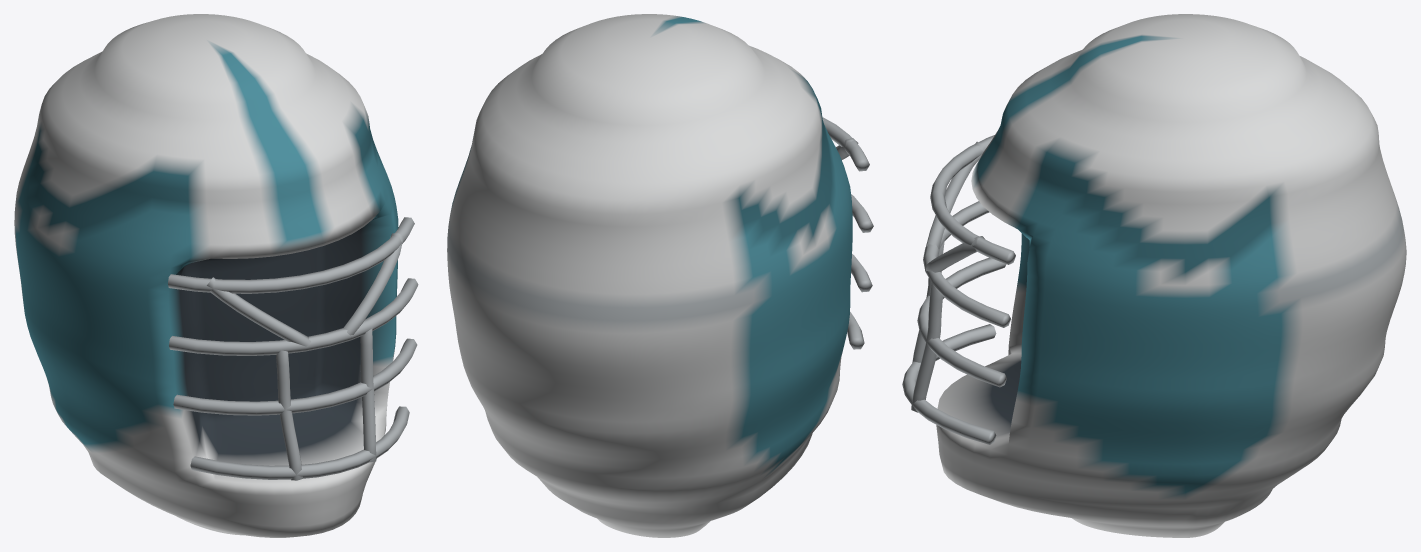
The model's file is goalie_mask.glb.
The picture shows the model from 3 angles, left to right: view 1: azimuth 30°, elevation 25°; view 2: azimuth 150°, elevation 25°; view 3: azimuth 270°, elevation 25°; orthographic projection. The views are drawn at different scales.
Visible parts, largest first — view 1: goalie_mask2; view 2: goalie_mask2; view 3: goalie_mask2.
Boxes of the visible parts, x1,y1,x2,y2 form: goalie_mask2: (14, 14, 418, 537); goalie_mask2: (447, 14, 873, 537); goalie_mask2: (902, 14, 1406, 537).
Size of the model in its own units: 0.2359 by 0.32 by 0.3077.
